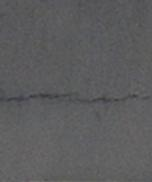fissura: (6, 72, 143, 126)
